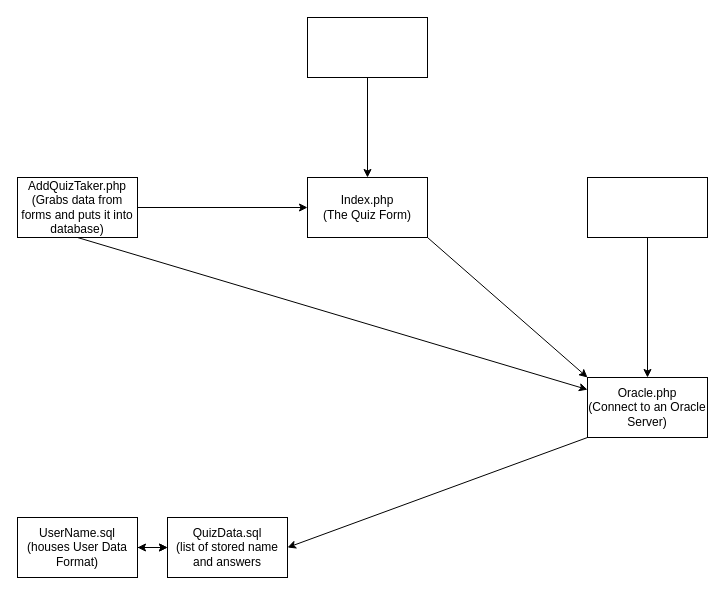
Some shapes in this 725 by 595 pixel diagram are drawn without their labels. The shapes that lost their labels are listed below. From the top down, each one's centre as x and y in pixels, then its label:
At [367,47]: "Format.css (How Site looks)".
At [647,207]: "Keyword.php (used by admistrator to grab name and score data".
